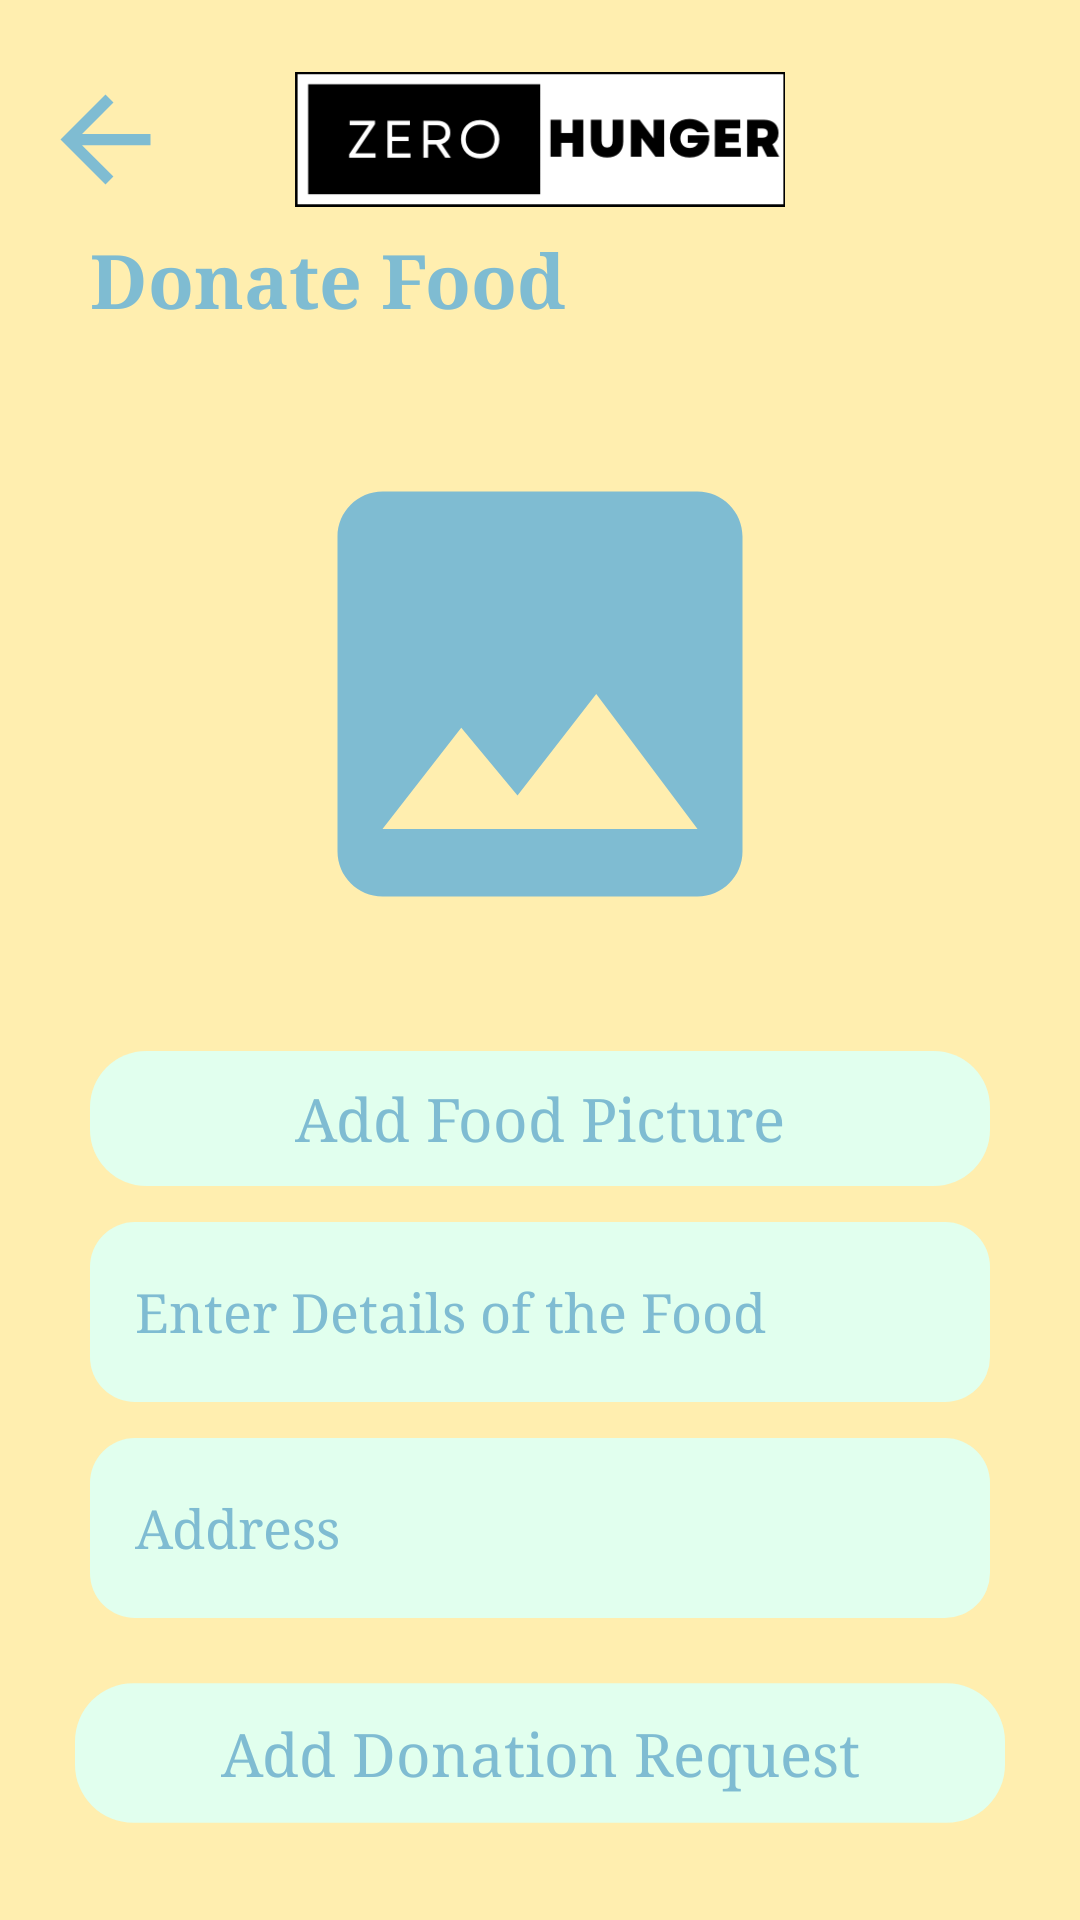

Point at icon controls on the screen. Image size 1080×1920, points as (x,y).
back: (105,139)
